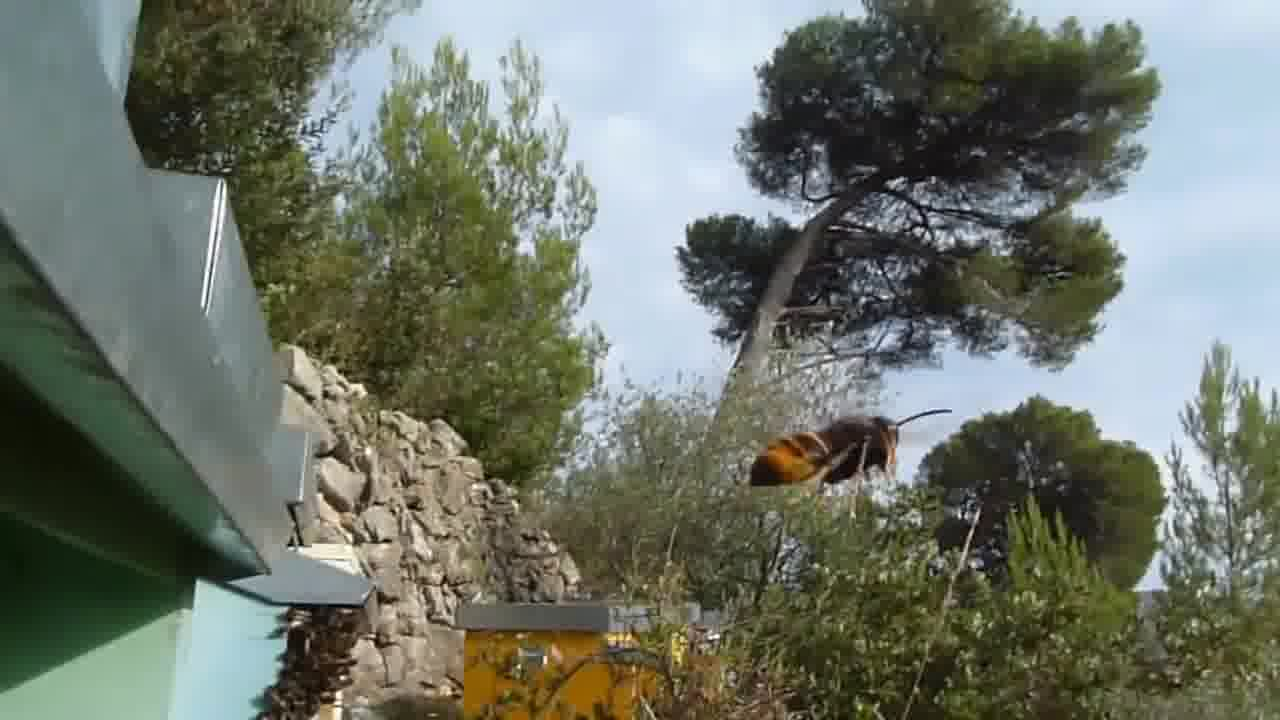bee: (263, 604, 372, 719)
hornet: (736, 392, 919, 498)
